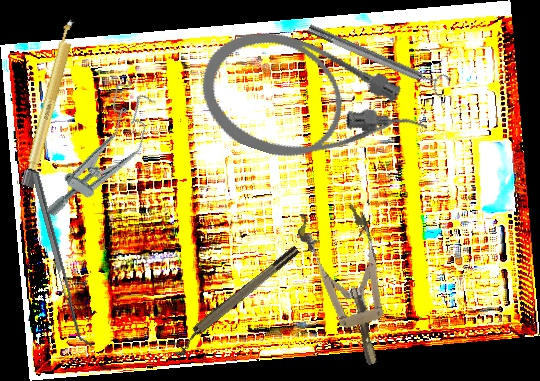Cannula: (184, 13, 440, 200)
Fixation Ring: (166, 243, 306, 359), (304, 15, 451, 100)
Scalpel Handle: (20, 16, 80, 190)
Spatula Surgical: (31, 170, 93, 350)
Speculum: (36, 75, 169, 236), (293, 197, 405, 374)
